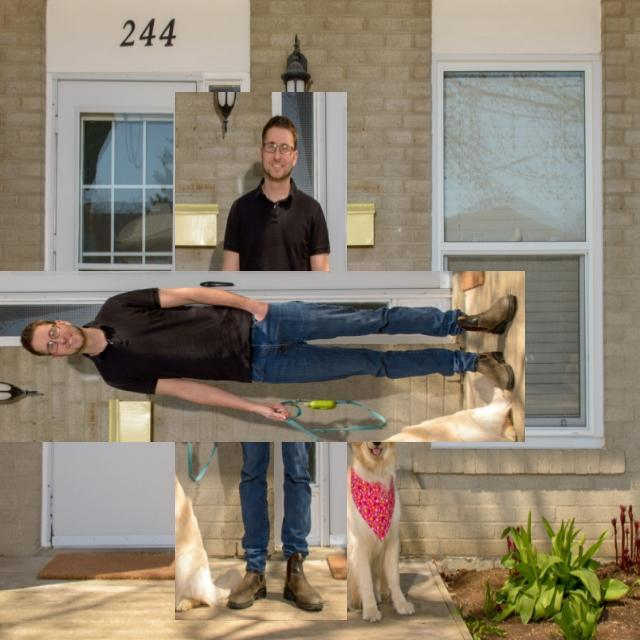NotFall: (0, 256, 545, 448)
